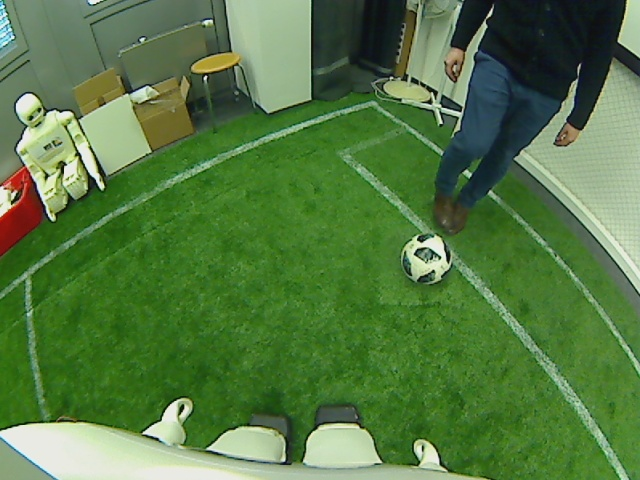ball: (399, 229, 452, 286)
